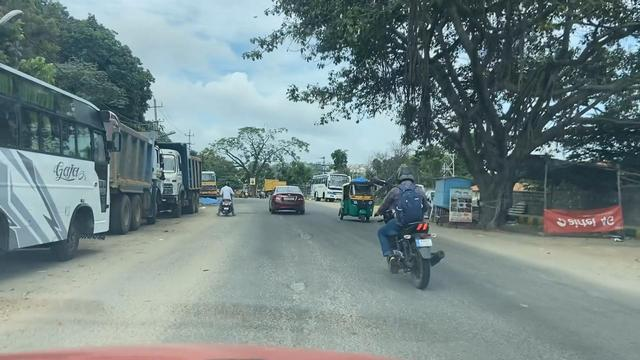HMV: (0, 52, 138, 283), (160, 136, 198, 216), (252, 173, 284, 198), (200, 161, 217, 200)
LMV: (366, 137, 476, 310), (256, 176, 321, 236), (337, 180, 376, 223), (206, 168, 236, 223)
RoadDamages: (272, 254, 337, 294), (287, 221, 320, 244)
